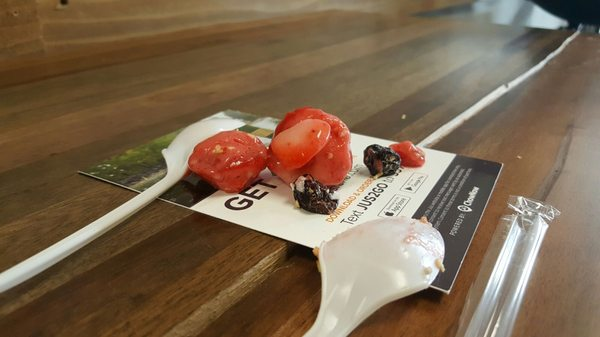curry: (2, 3, 587, 325)
